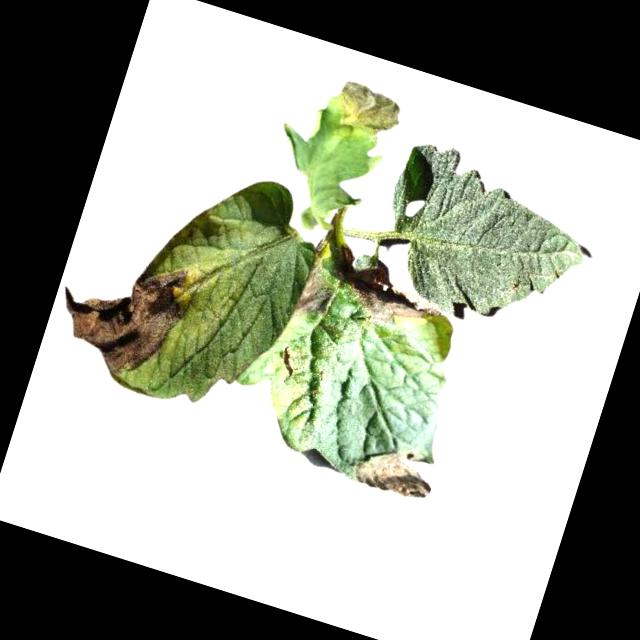Late_blight: (49, 233, 199, 389), (344, 257, 452, 341), (350, 437, 440, 505), (328, 79, 407, 147), (286, 256, 344, 326)
